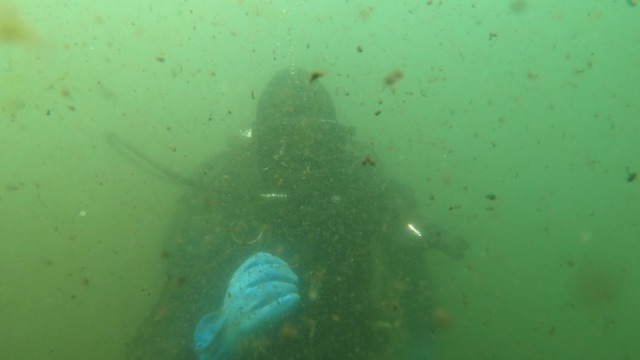Diver: (104, 46, 507, 357)
Hand: (183, 249, 299, 353)
Head: (234, 66, 369, 218)
